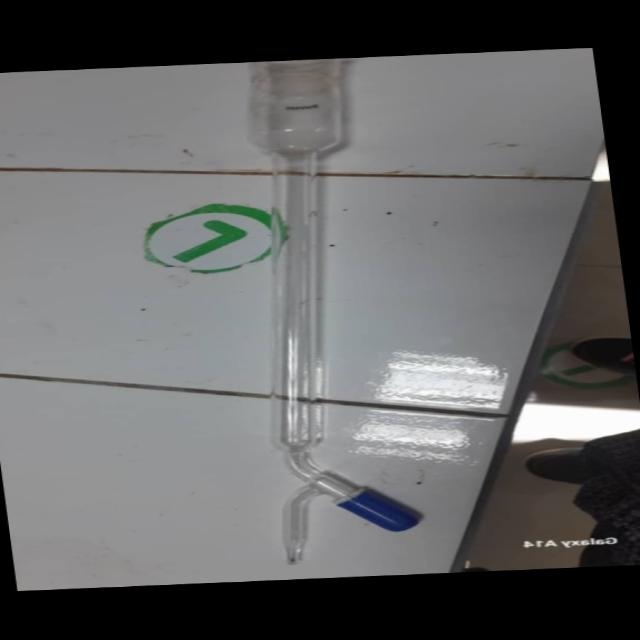Column Chromatography: (200, 61, 437, 566)
